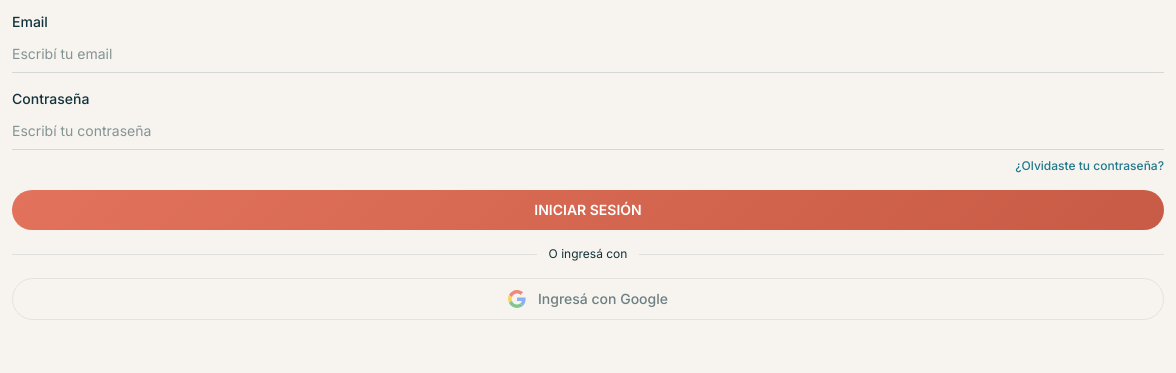
it: LoginForm › muestra el error del backend al fallar el login
The width and height of the screenshot is (1176, 373).
Type "a@a.com" into the field labelled "Email" at (588, 54), box [12,36,1164,73]
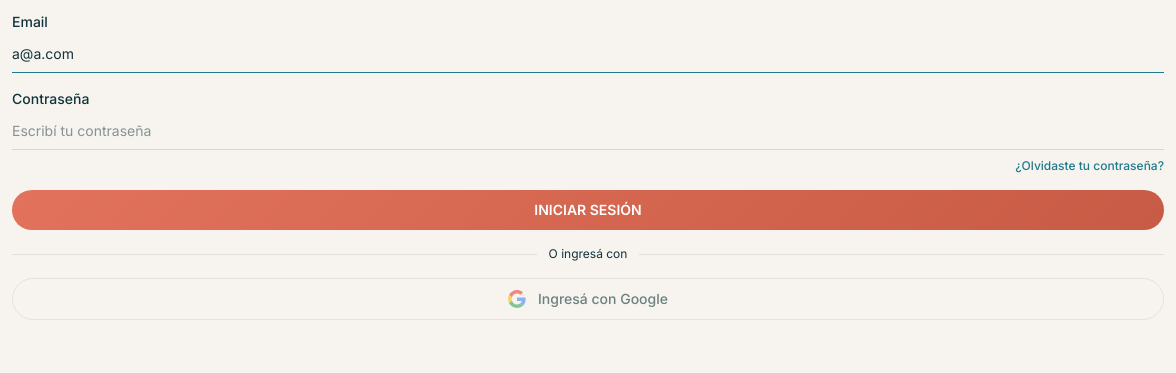
Type "wrongpass" into the password field labelled "Contraseña" at (588, 132), box [12,113,1164,150]
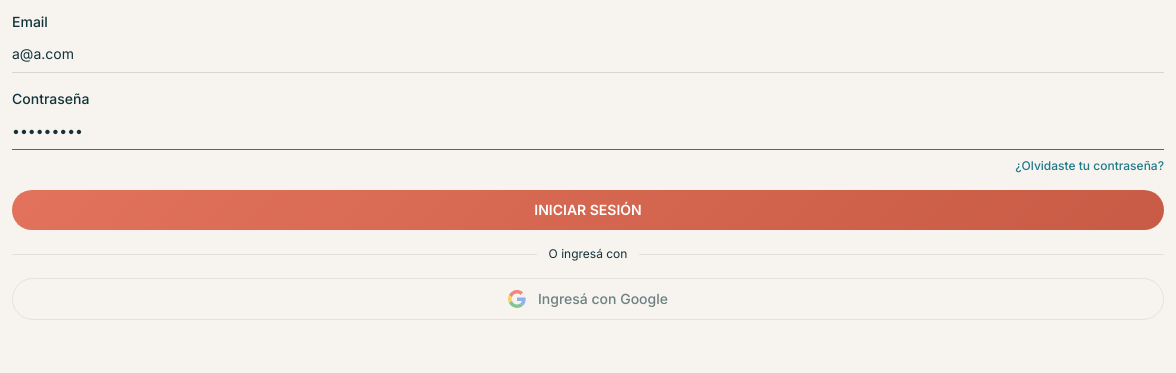
Click the button "Iniciar sesión" at (588, 210), box [12,190,1164,230]
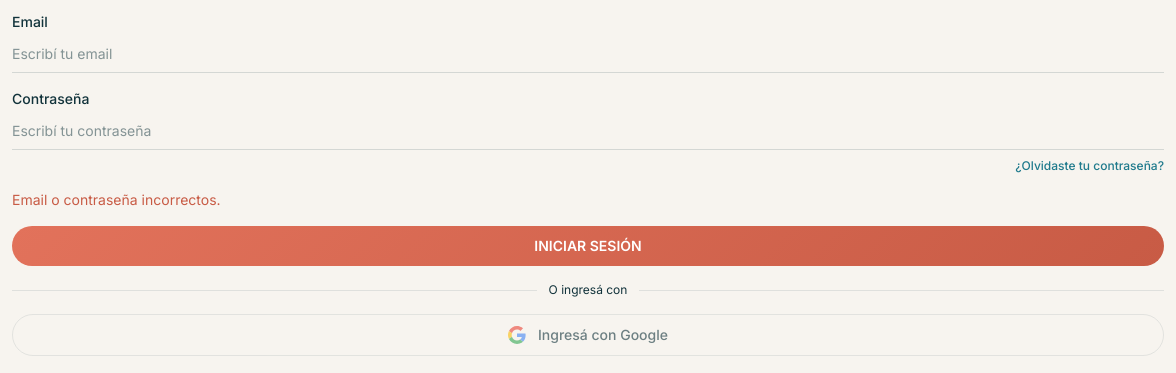
Check: the message reads "Email o contraseña incorrectos.", box [12,191,221,208]
